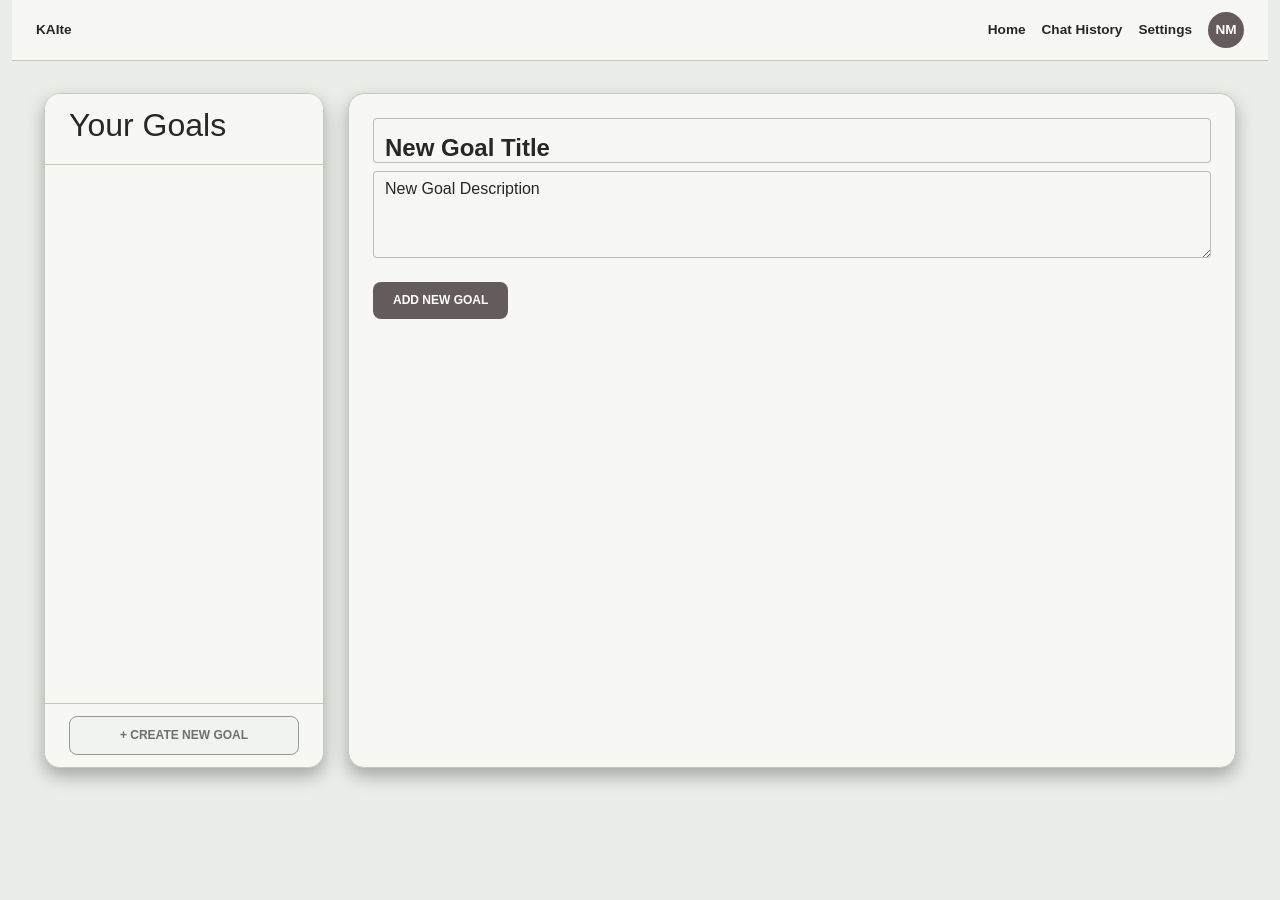
it: when goal creation pane is displayed and user clicks Add New Goal button, adds and selects the goal
// user action
Type "New goal added during test" into the field with placeholder "Title for new goal".
click(792, 140); type("New goal added during test")  # box [373, 118, 1211, 163]
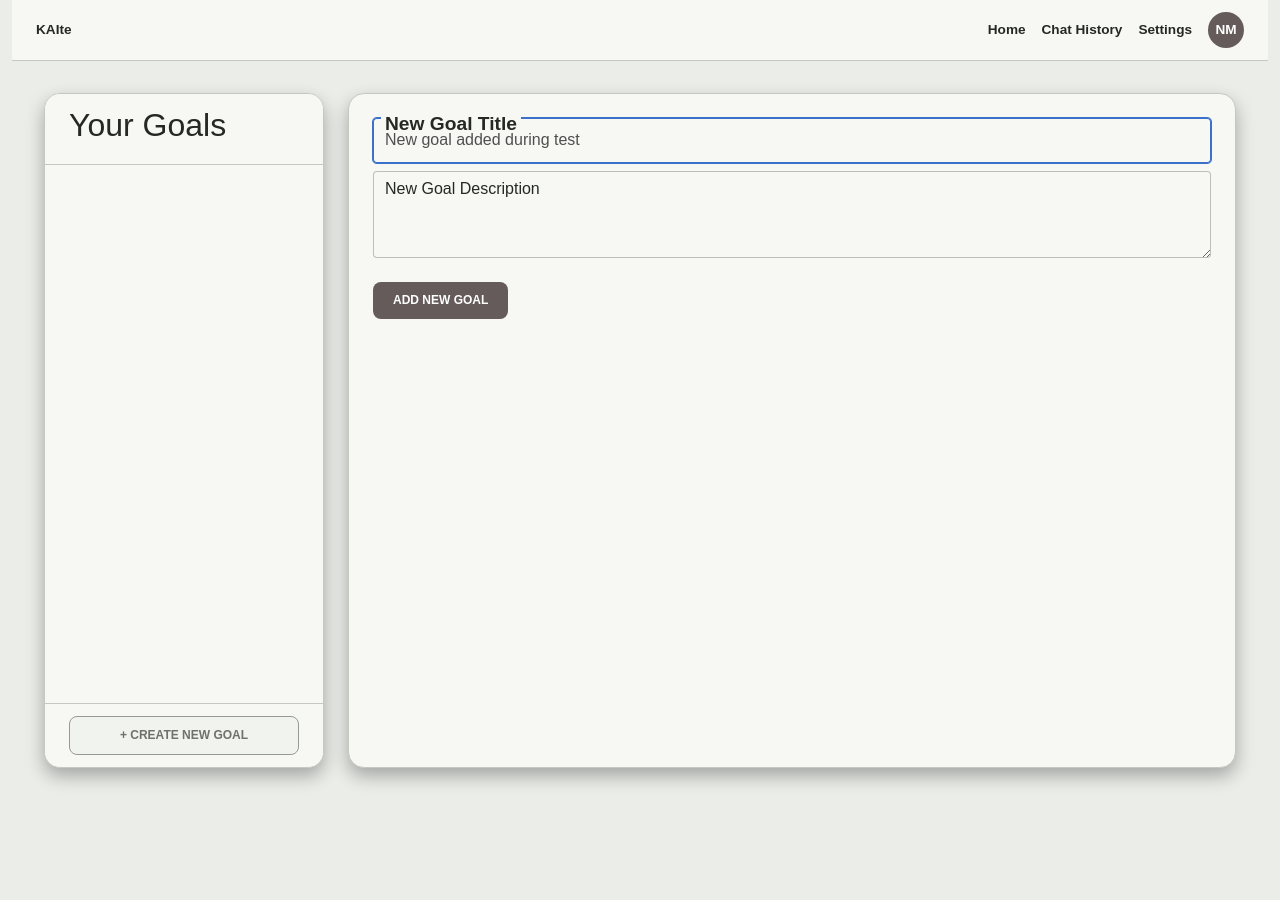
Type "This is a new goal that will be added during the test" into the text box with placeholder "Description for new goal".
click(792, 214); type("This is a new goal that will be added during the test")  # box [373, 171, 1211, 258]
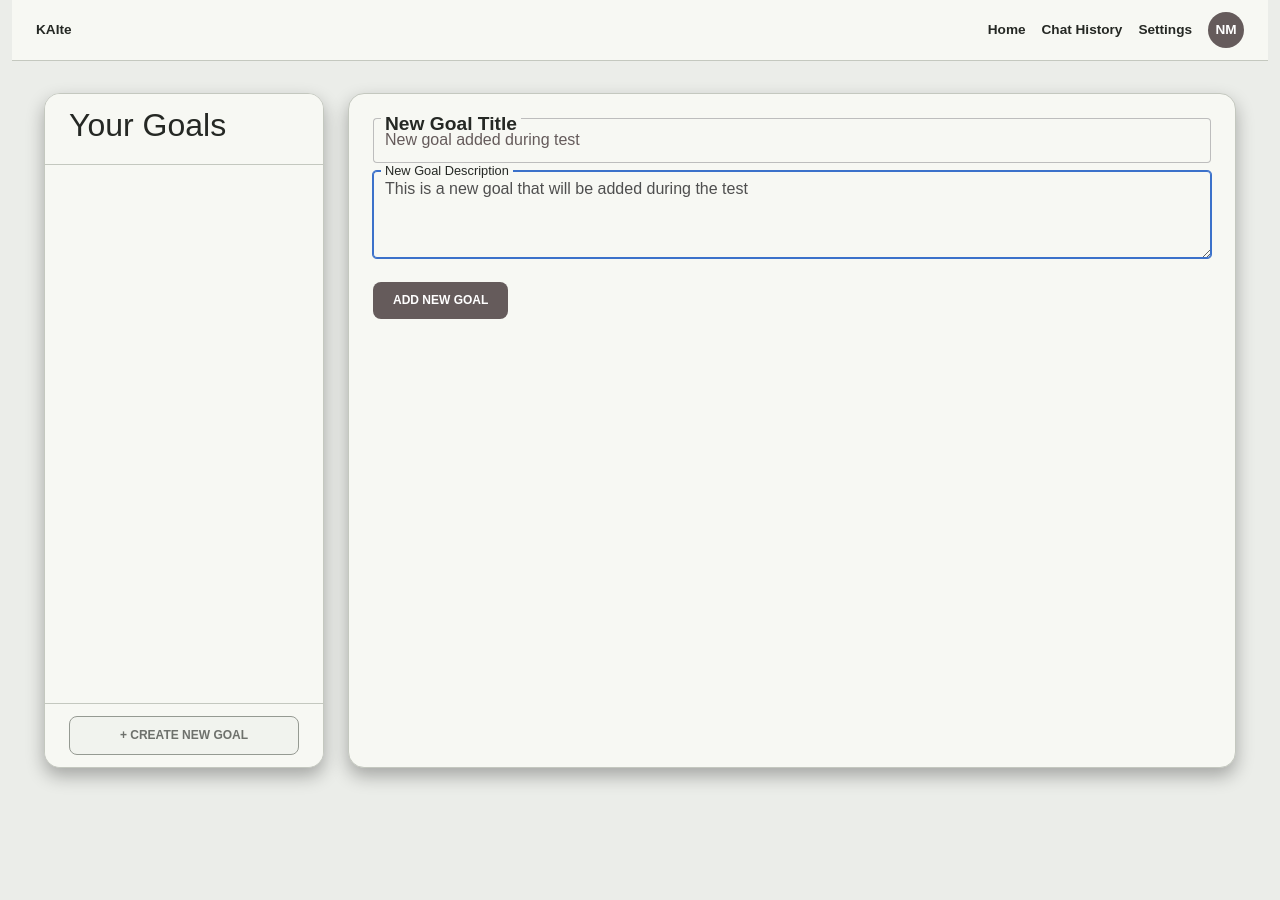
Click the button "Add new goal".
click(441, 300)  # box [373, 282, 508, 319]
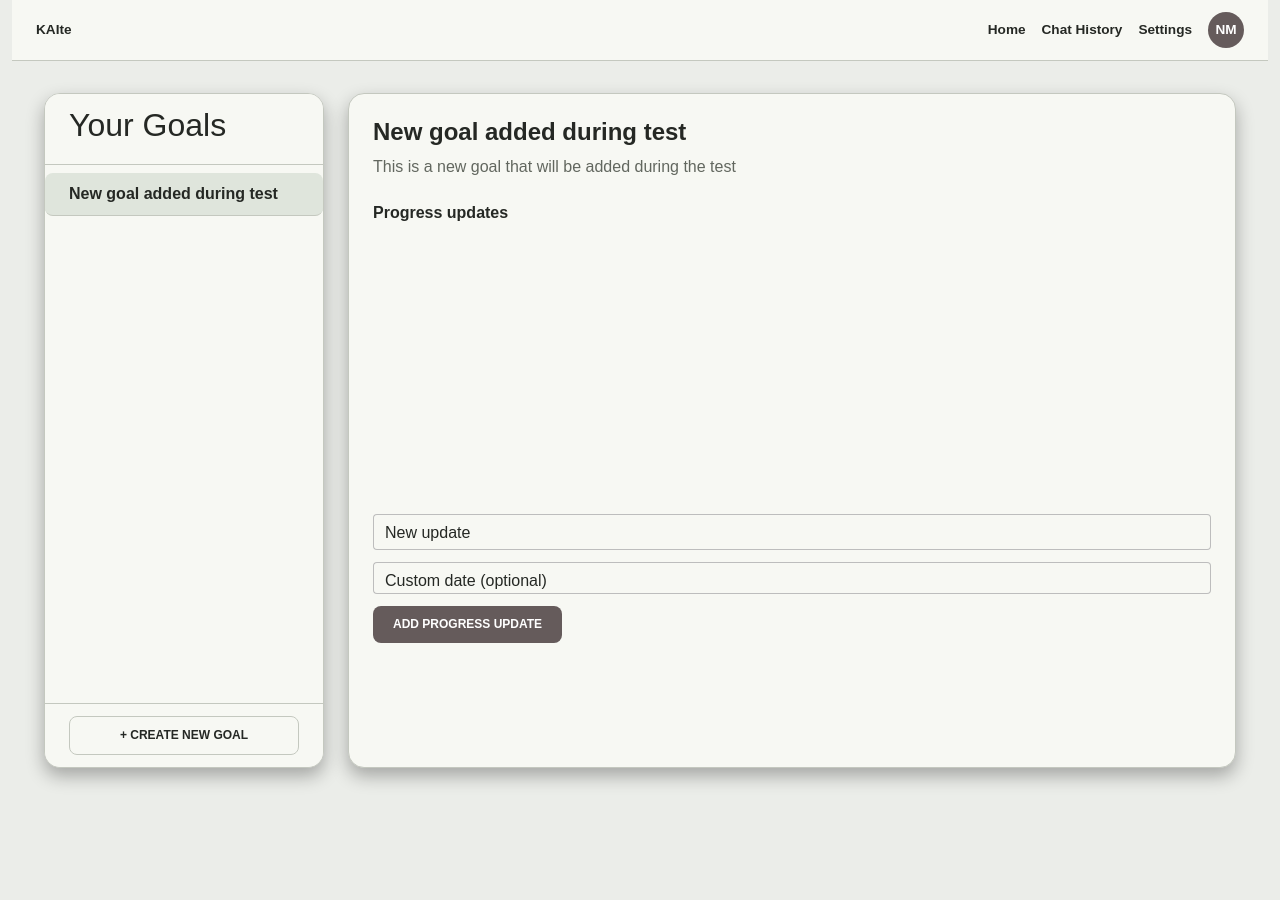
Result: the list item "New goal added during test" is shown at [45, 173, 323, 216]
Result: the text "This is a new goal that will be added during the test" is shown at [373, 158, 736, 175]
Result: the heading "New goal added during test" is shown at [373, 118, 686, 145]
